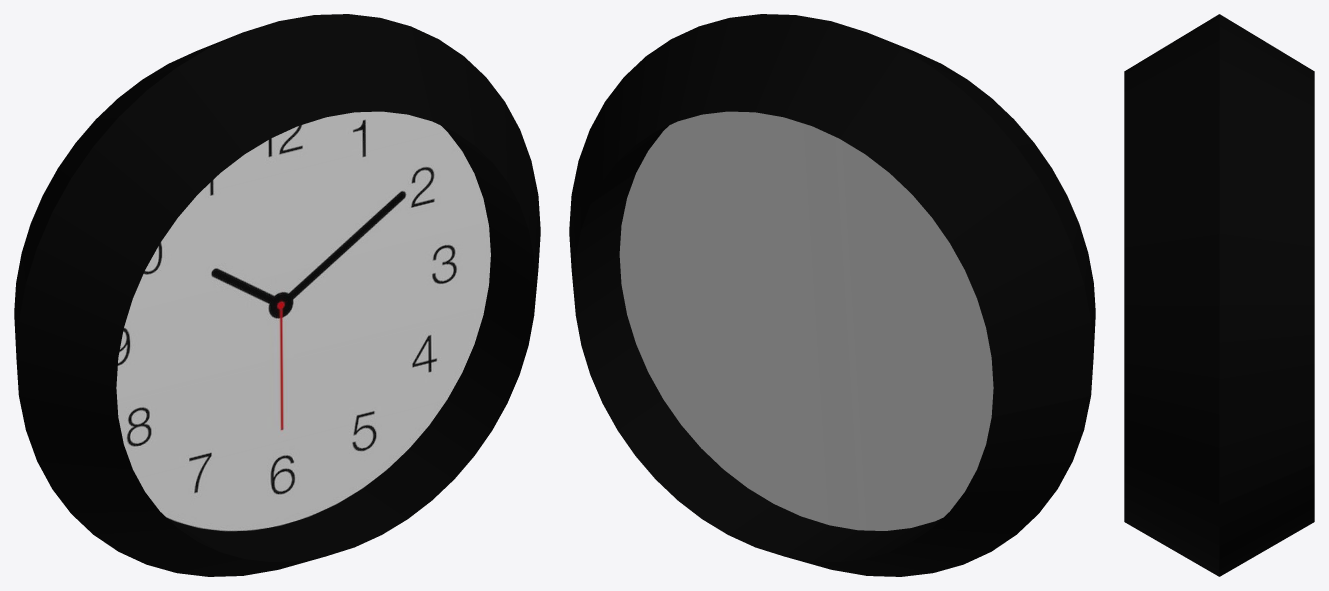
File: Clock.fbx
3 renders of one model, left to right at view 1: azimuth 30°, elevation 25°; view 2: azimuth 150°, elevation 25°; view 3: azimuth 270°, elevation 25°, orthographic. The views are drawn at different scales.
Parts seen in each view (by area): view 1: ClockInside, ClockOutside; view 2: ClockInside, ClockOutside; view 3: ClockOutside.
Part boxes in pixels (x1,y1,x2,y2): ClockInside: [116, 111, 490, 531]; ClockOutside: [14, 14, 540, 576]; ClockInside: [619, 111, 993, 530]; ClockOutside: [569, 14, 1095, 576]; ClockOutside: [1124, 14, 1314, 576].
Bounding box in the file's own units: 0.9081 × 0.9079 × 0.3067.
